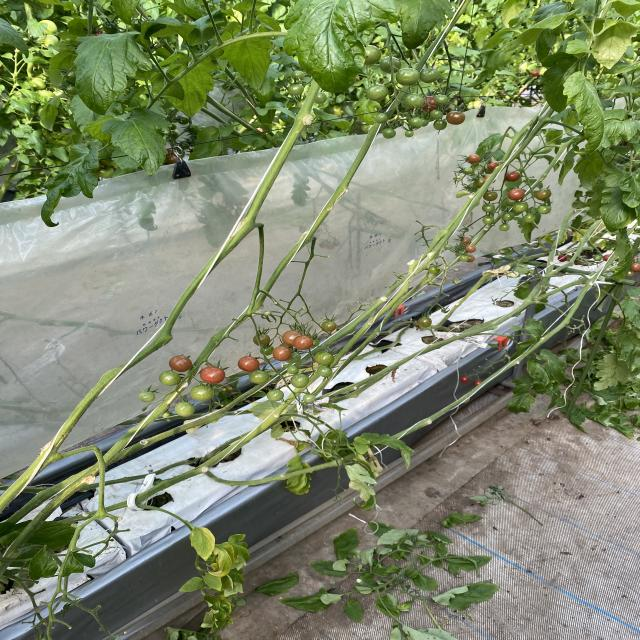kirmizi: (258, 327, 339, 367)
